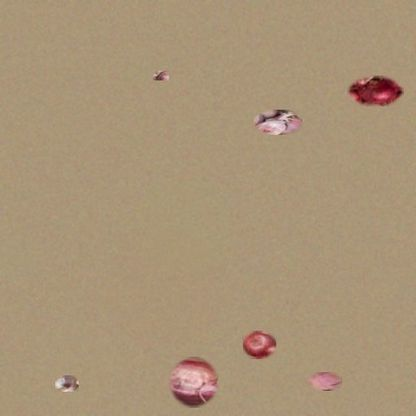healthy: (347, 76, 404, 106), (243, 331, 276, 359)
rotten: (169, 357, 219, 408), (309, 372, 342, 391), (55, 375, 79, 392)
sprouted: (254, 110, 302, 135), (153, 71, 169, 80)
